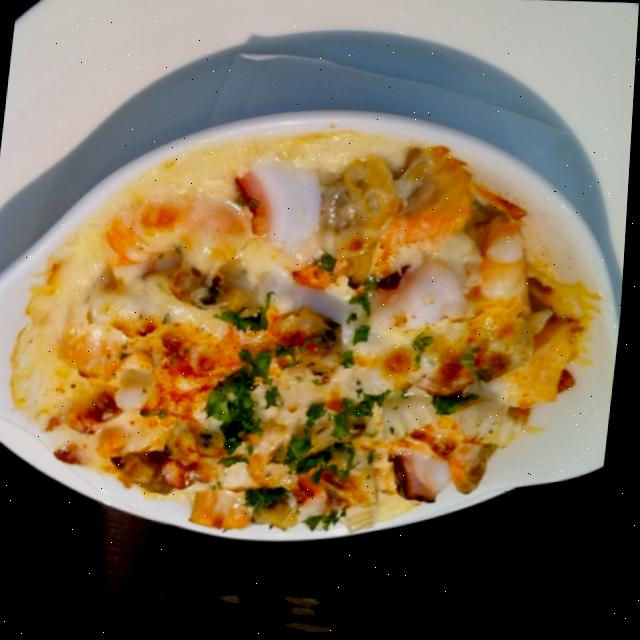米饭主食: (0, 78, 636, 579)
